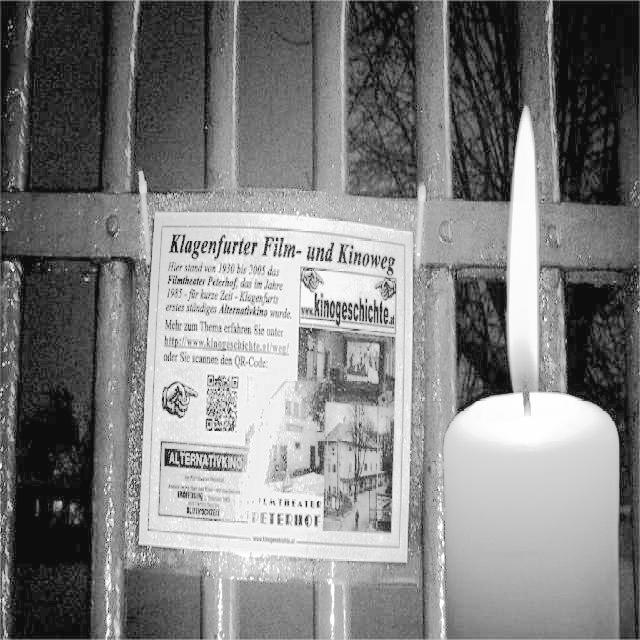qr_code: (206, 375, 238, 431)
